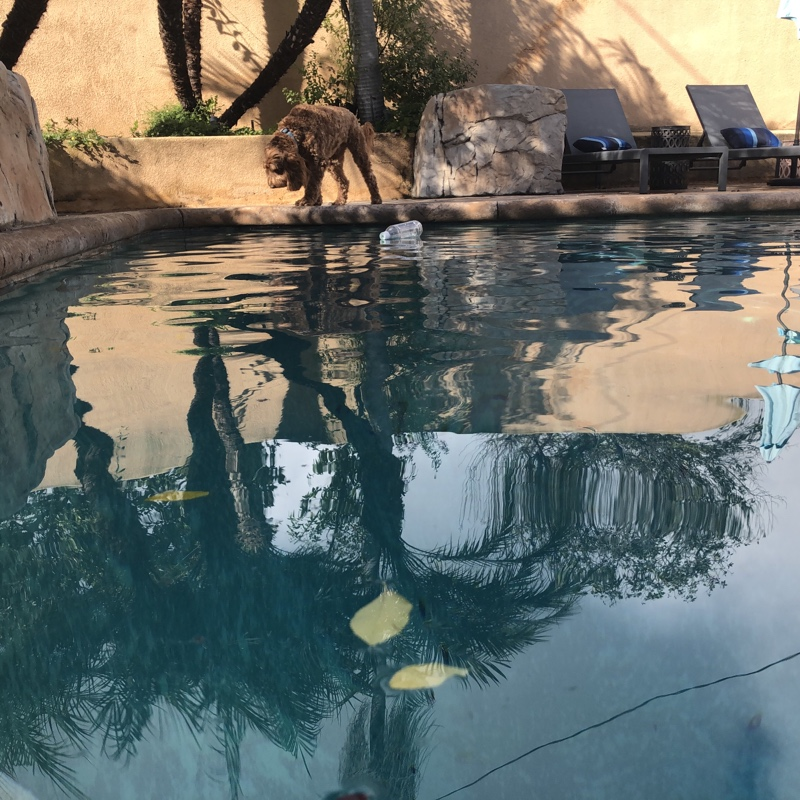Plastic Bottle: (377, 218, 422, 239)
